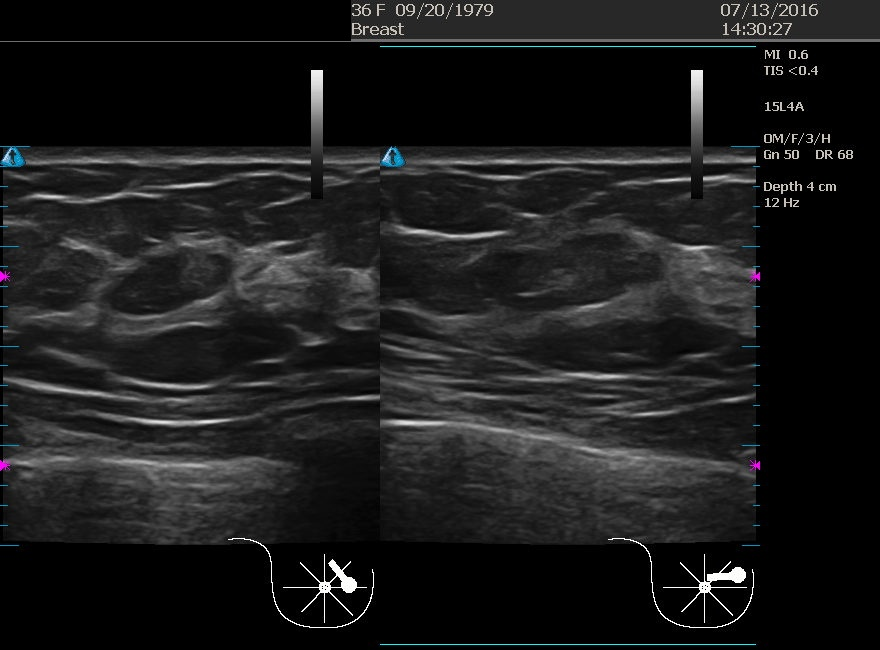Benign: (63, 174, 263, 374), (464, 185, 664, 385)
